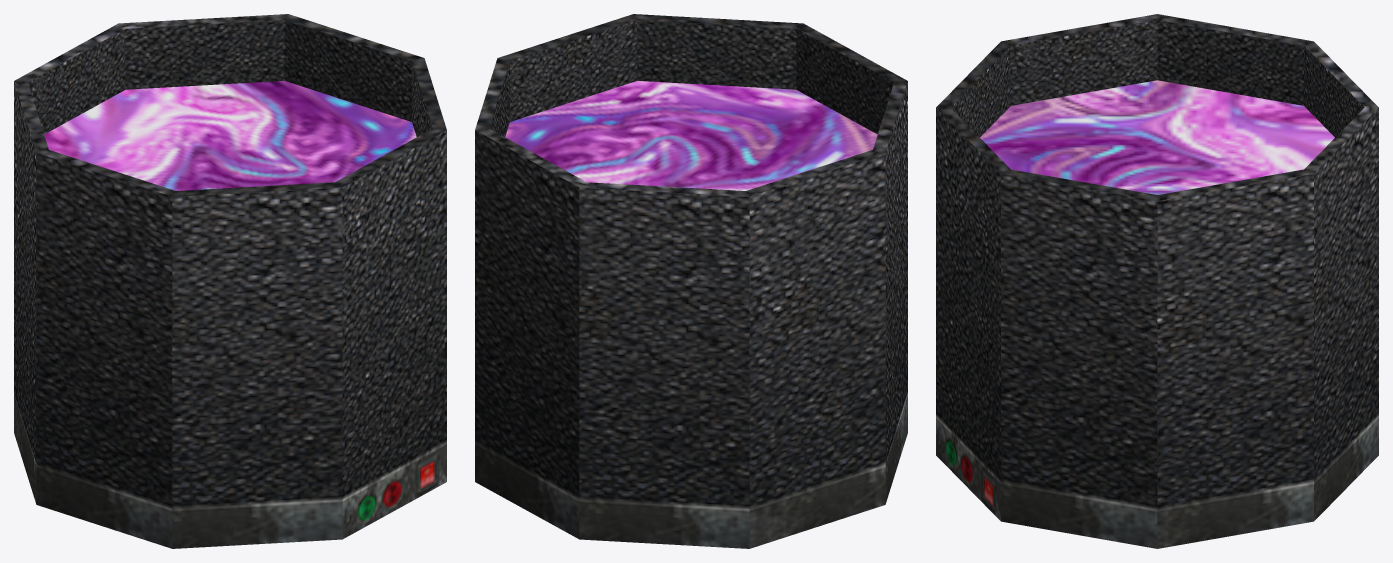
File: couldron.fbx
3 renders of one model, left to right at view 1: azimuth 30°, elevation 25°; view 2: azimuth 150°, elevation 25°; view 3: azimuth 270°, elevation 25°, orthographic.
Parts seen in each view (by area): view 1: Cylinder; view 2: Cylinder; view 3: Cylinder.
Boxes of the visible parts, x1=… form: Cylinder: x1=14, y1=14, x2=446, y2=548; Cylinder: x1=475, y1=14, x2=907, y2=548; Cylinder: x1=936, y1=14, x2=1378, y2=548.
Size of the model in its own units: 60 by 52 by 60.
Materials: 1 (1 with a texture image).
